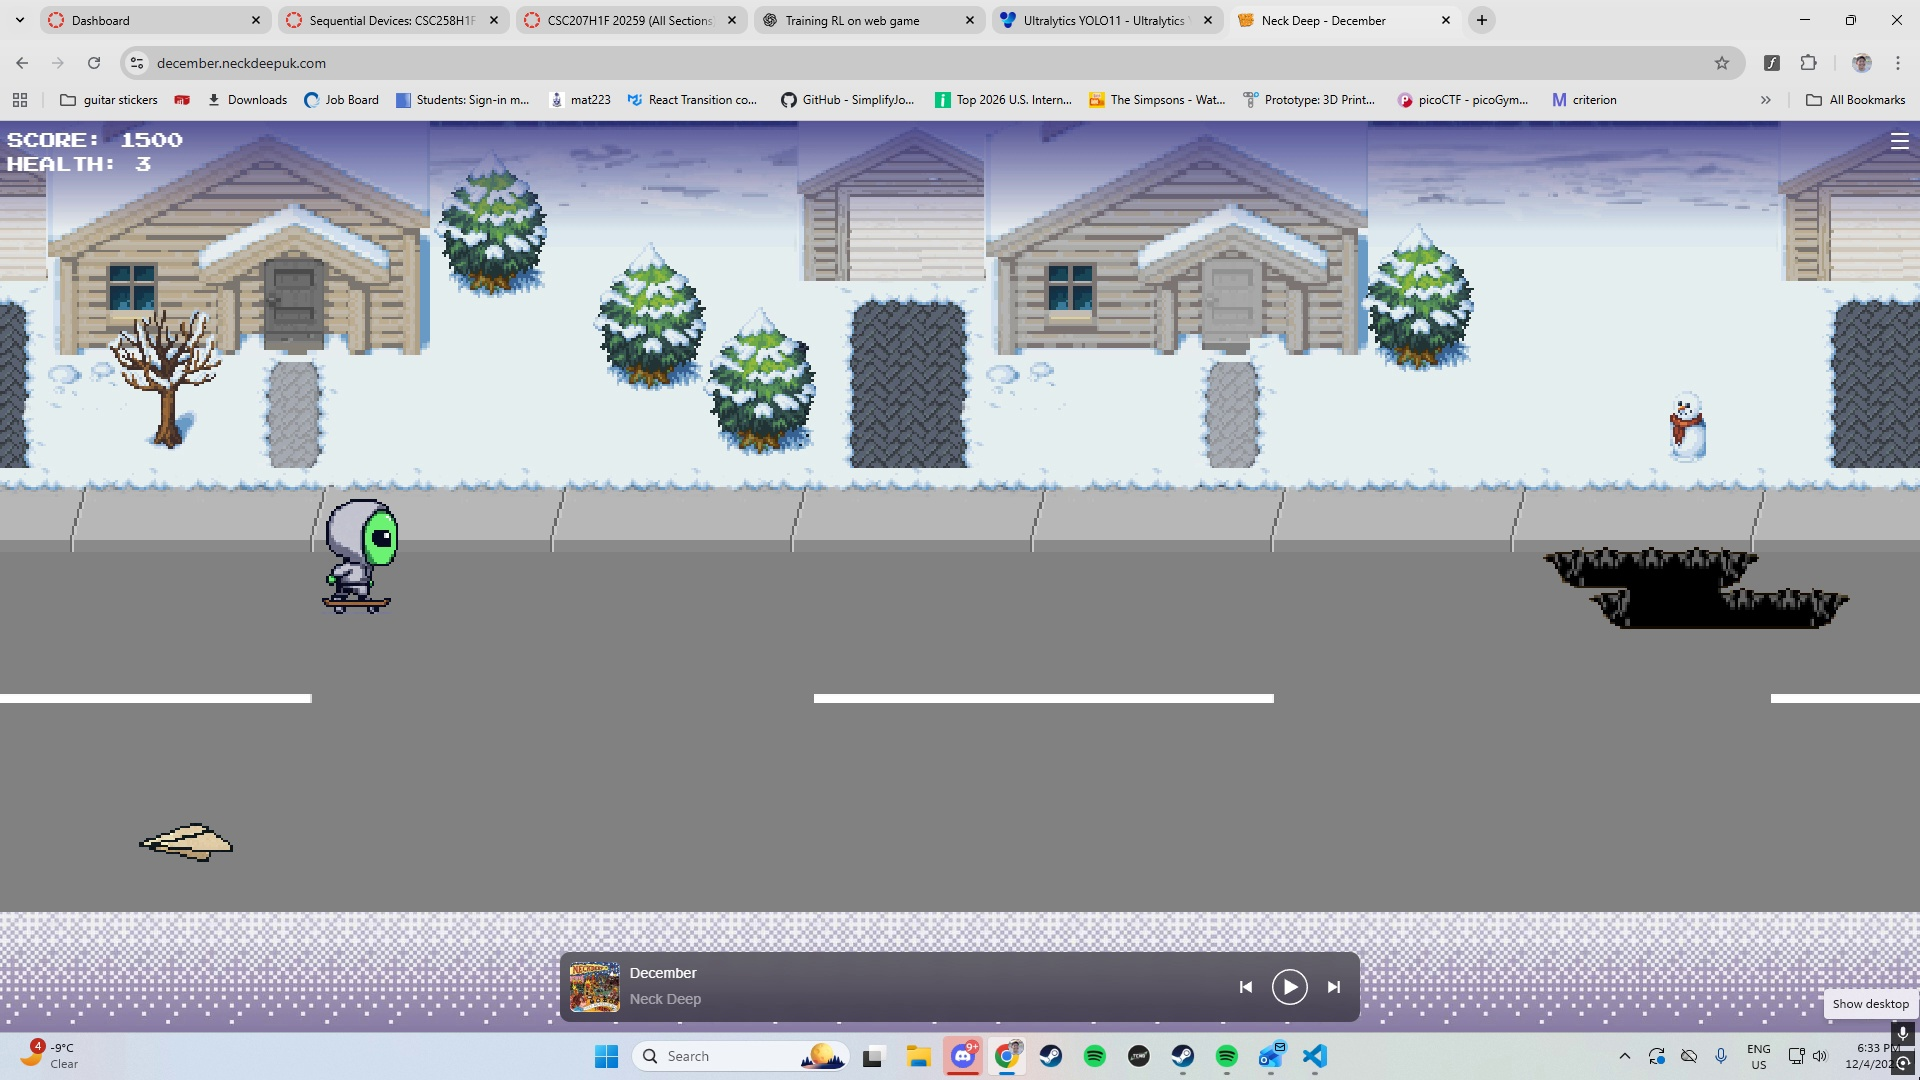Hole: (1531, 542, 1857, 635)
Plane: (124, 811, 249, 871)
Player: (309, 489, 412, 621)
